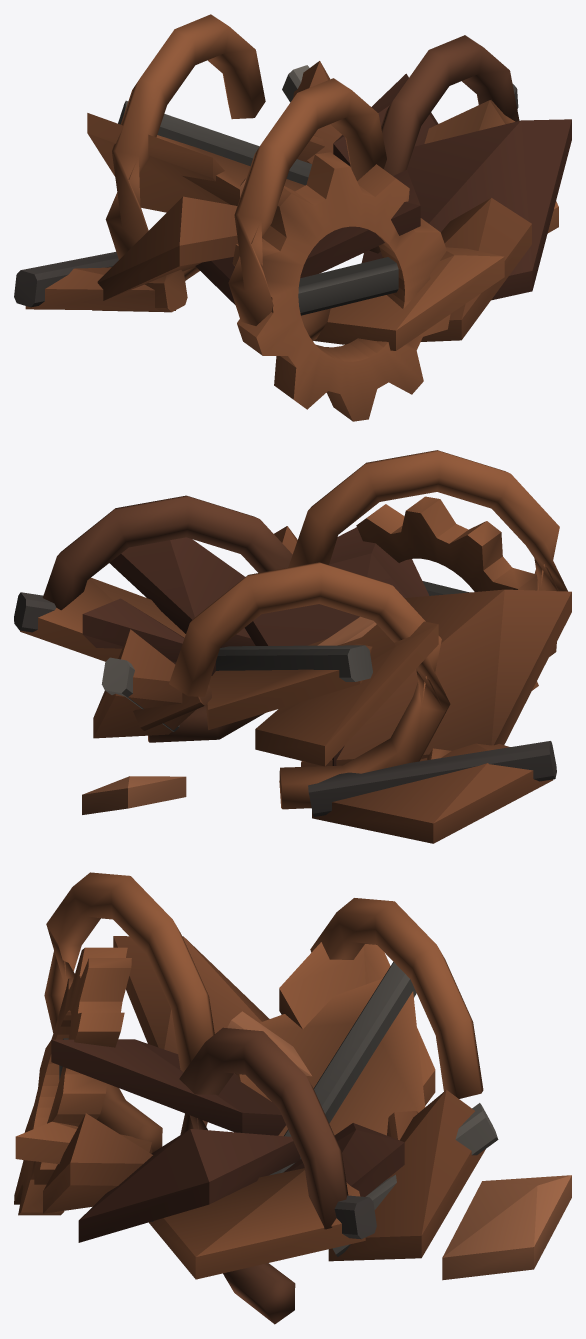
The model's file is building-magnetCrane-scrapSmall-v1.glb.
The picture shows the model from 3 angles, top to bottom: view 1: azimuth 30°, elevation 25°; view 2: azimuth 150°, elevation 25°; view 3: azimuth 270°, elevation 25°; orthographic projection. The views are drawn at different scales.
Parts seen in each view (by area): view 1: 0_magnetCrane-scrapSmall; view 2: 0_magnetCrane-scrapSmall; view 3: 0_magnetCrane-scrapSmall.
Part boxes in pixels (box(x1,y1,x2,y2)): 0_magnetCrane-scrapSmall: box(14, 14, 571, 421); 0_magnetCrane-scrapSmall: box(14, 450, 571, 843); 0_magnetCrane-scrapSmall: box(14, 872, 571, 1324).
Size of the model in its own units: 1 by 0.5453 by 0.8429.
